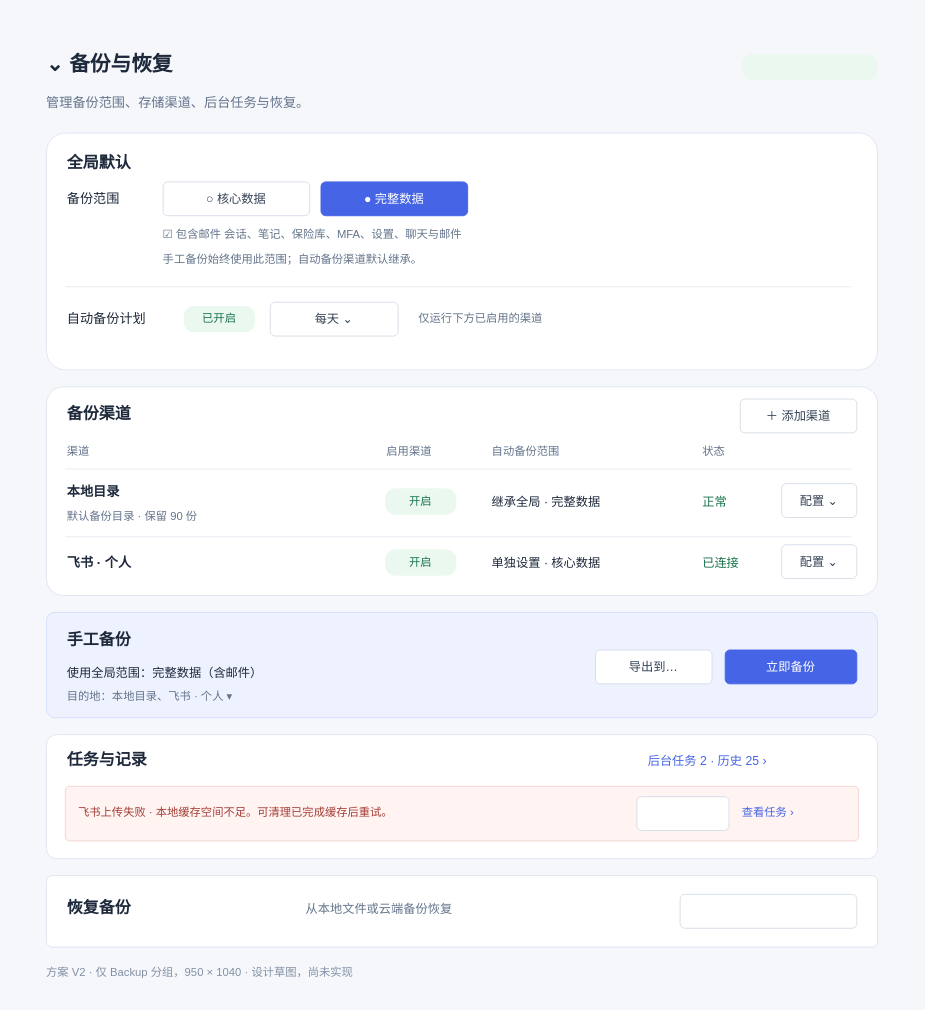
The diagram is 925 pixels wide and 1010 high, and some of its shapes have lost their labels. Here are the shapes that lost their labels. From the top down, the centre of each, then its label:
At point (809, 67): "✓ 所有更改已保存".
At point (682, 813): "重试".
At point (768, 910): "选择备份与恢复…".
